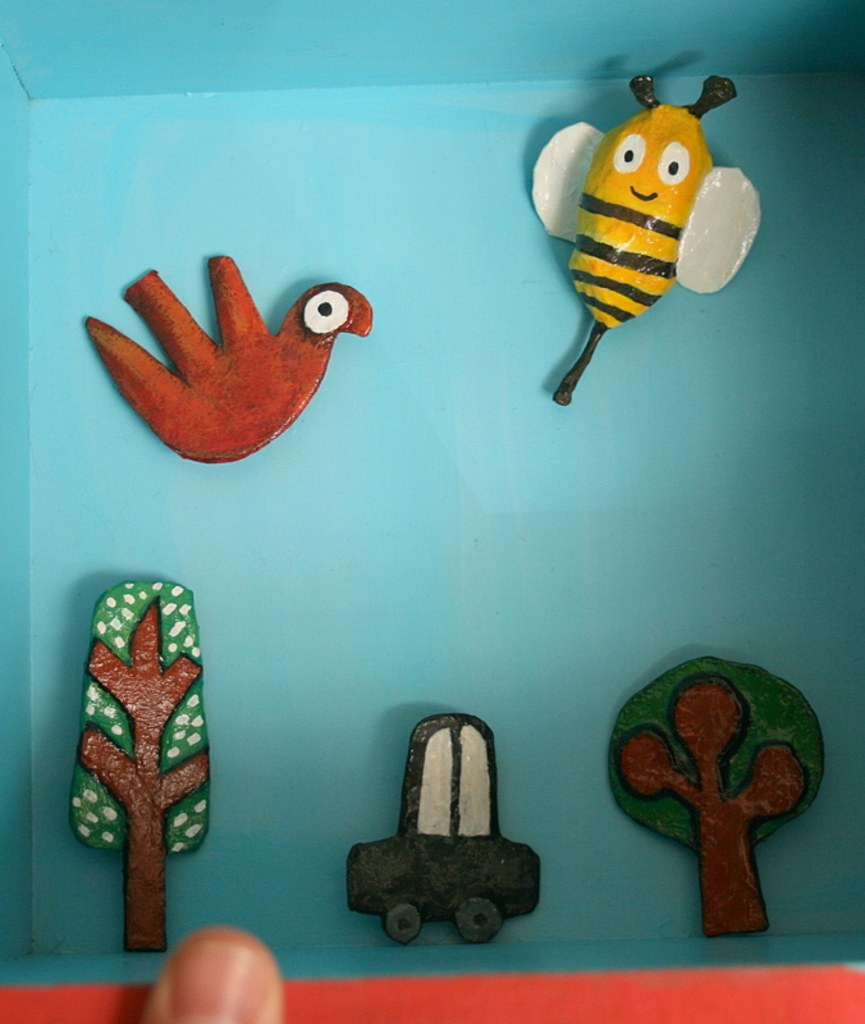bee: (550, 78, 768, 408)
insect: (520, 64, 743, 397), (72, 251, 377, 466), (607, 653, 829, 938), (82, 252, 369, 467), (67, 576, 207, 952), (349, 707, 543, 948)
